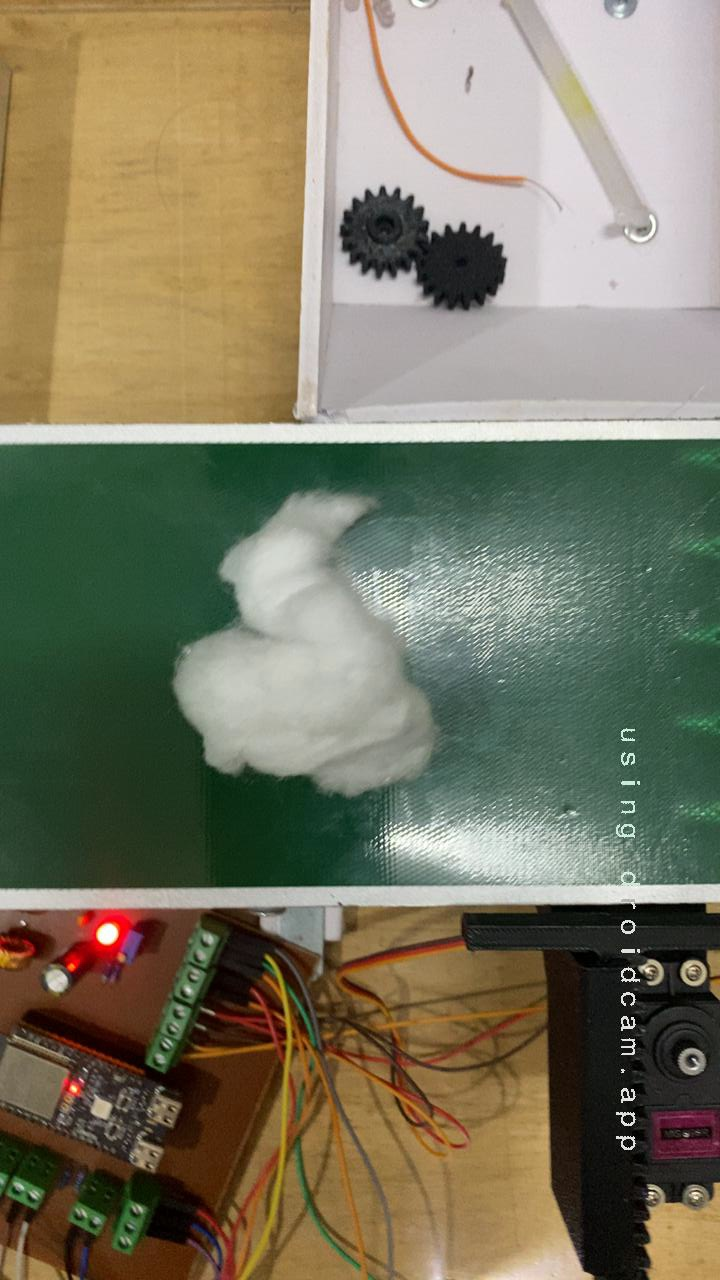cotton: (137, 469, 465, 812)
